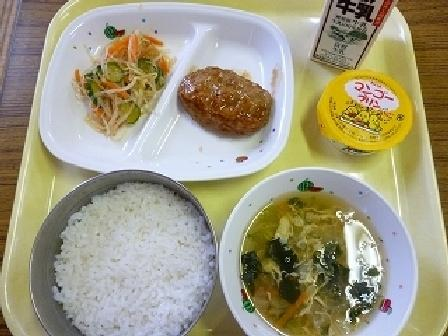Cup desserts: (302, 66, 420, 166)
Meat: (174, 49, 270, 142)
Milk: (303, 0, 404, 73)
Rice: (29, 177, 225, 329)
Salad: (69, 33, 175, 124)
Soups: (223, 167, 404, 336)
